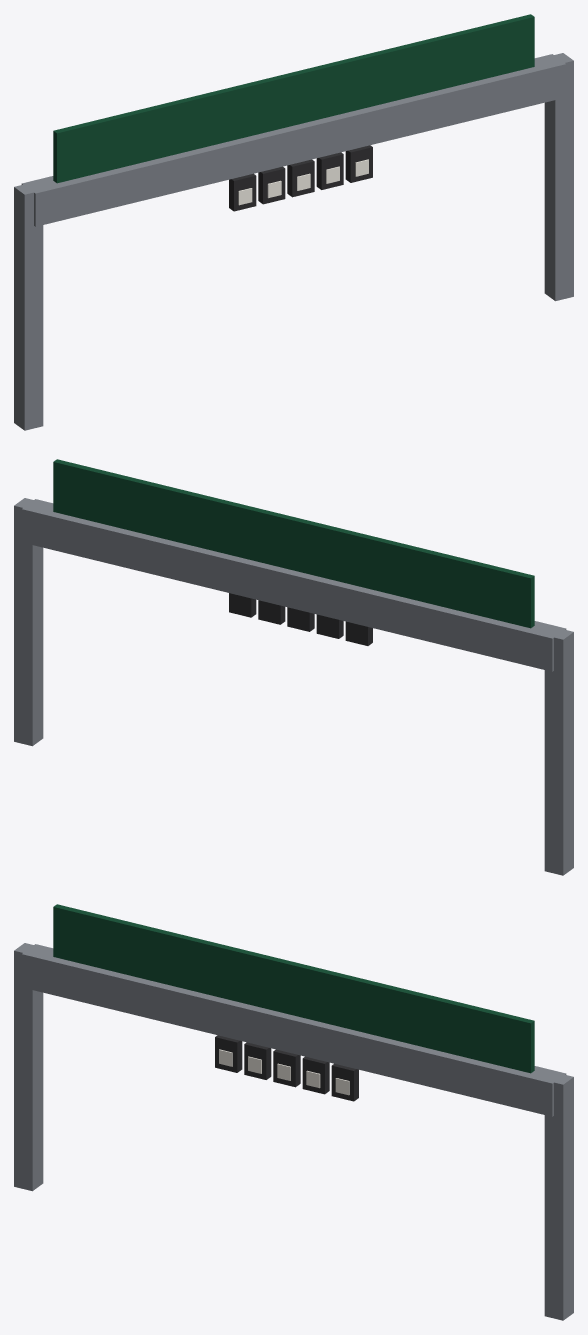
The model's file is start_gantry.glb.
3 renders of one model, top to bottom at view 1: azimuth 30°, elevation 25°; view 2: azimuth 150°, elevation 25°; view 3: azimuth 330°, elevation 25°, orthographic.
Parts seen in each view (by area): view 1: chunk_0_0; view 2: chunk_0_0; view 3: chunk_0_0.
Part boxes in pixels (x1,y1,x2,y2): chunk_0_0: (14,14,573,430); chunk_0_0: (14,459,573,875); chunk_0_0: (14,904,573,1320).
Size of the model in its own units: 20.7 by 10.3 by 1.11.
